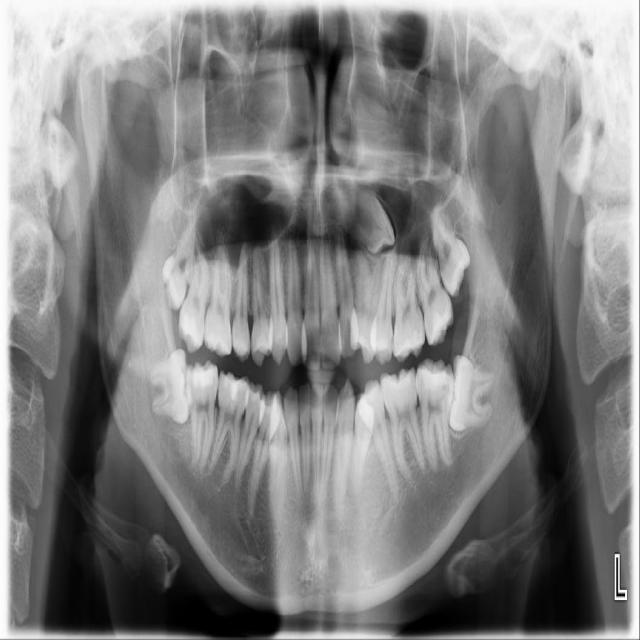3M ESPE Implant: (156, 220, 197, 311)
BioHorizons Implant: (408, 235, 460, 348)
BioLife Implant: (425, 199, 477, 299)
Biomet 3i Implant: (446, 354, 495, 431)
Blue Sky Bio Implant: (416, 358, 453, 473)
Caries: (178, 232, 209, 354)
Implant: (182, 358, 220, 474)
Keystone Dental Implant: (147, 348, 195, 426)
